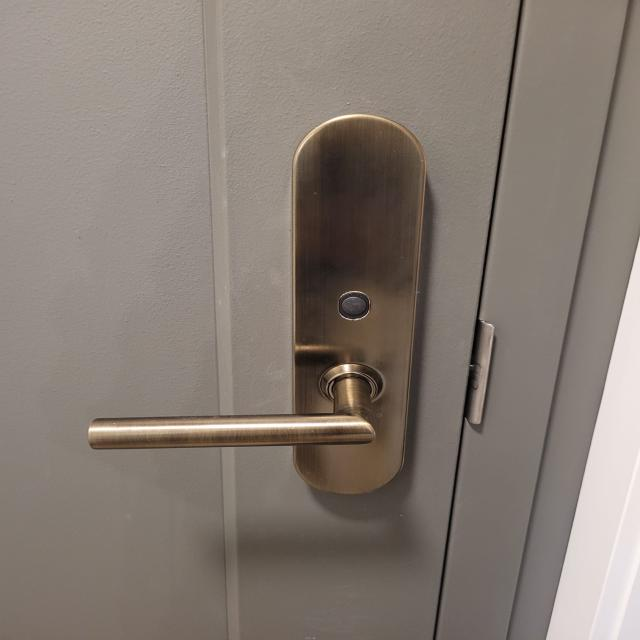door-handle: (88, 364, 382, 449)
